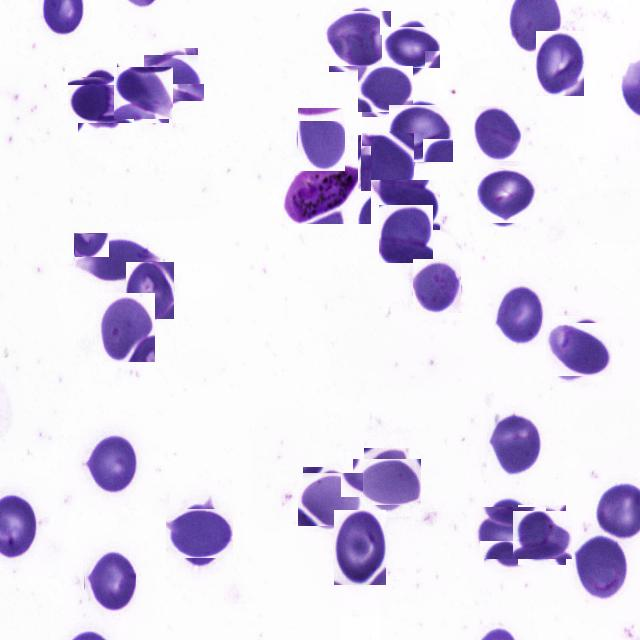difficult: (282, 158, 376, 224)
red blood cell: (74, 233, 160, 285), (334, 510, 386, 585), (479, 502, 541, 564), (100, 293, 155, 362), (326, 8, 388, 69), (487, 410, 543, 477), (573, 532, 628, 600), (391, 102, 451, 164), (548, 320, 608, 380), (300, 470, 360, 530), (170, 504, 230, 562), (371, 180, 440, 230), (478, 168, 536, 225), (358, 454, 416, 511), (86, 432, 138, 495), (84, 550, 136, 612), (74, 72, 130, 128), (115, 65, 171, 121), (359, 134, 415, 190), (379, 205, 433, 263), (536, 31, 584, 96), (297, 107, 345, 171), (494, 284, 542, 346), (148, 51, 202, 105), (515, 508, 569, 562), (126, 262, 174, 319), (474, 106, 523, 161), (413, 259, 461, 313), (386, 22, 436, 72), (360, 64, 410, 114)
